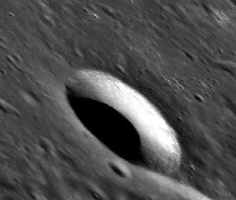crater: (29, 37, 220, 197)
